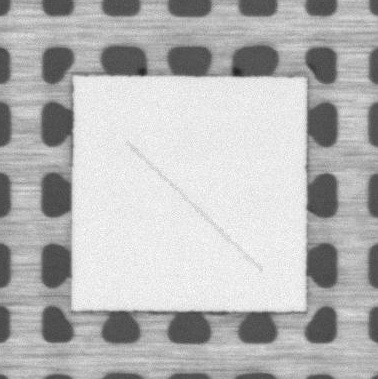DIE_CRACK: (127, 142, 261, 271)
